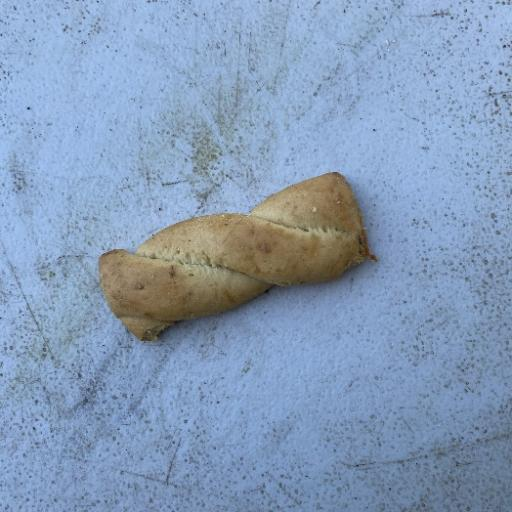Waste: (96, 170, 377, 343)
